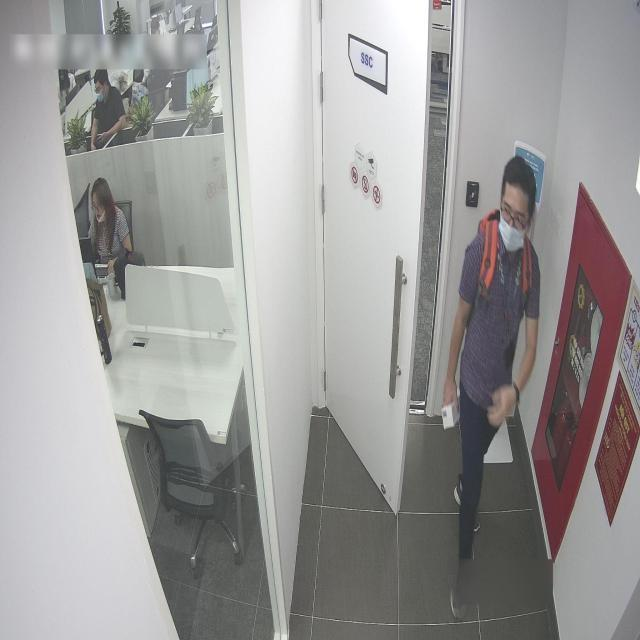hairnet: (92, 209, 108, 224)
